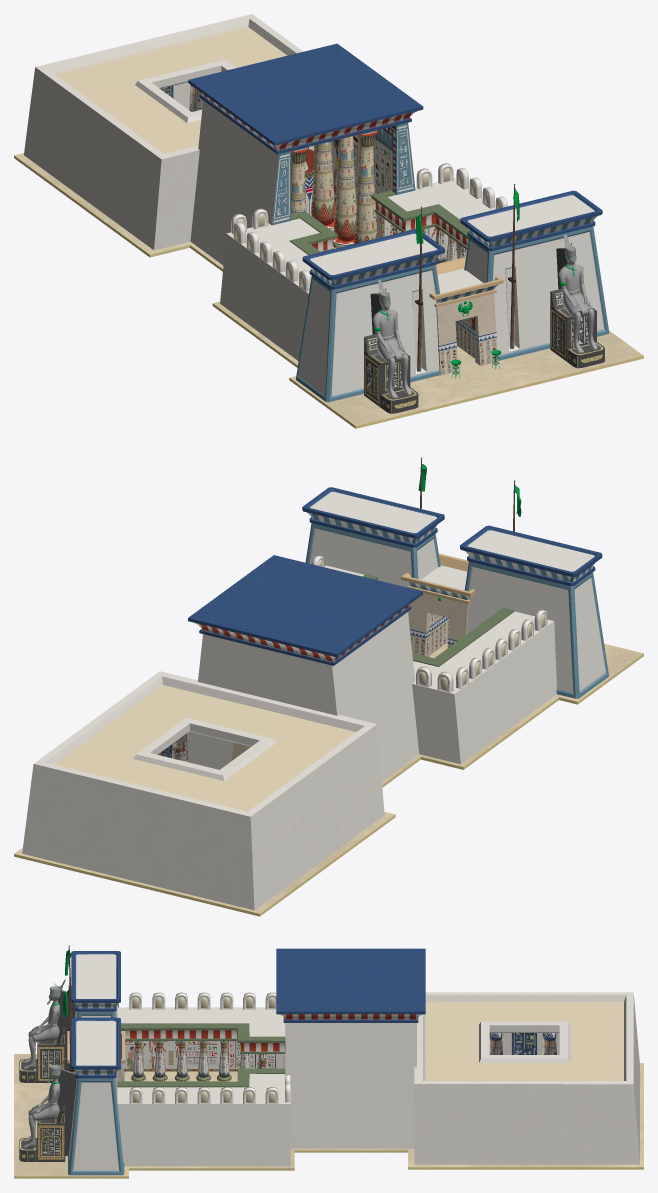
File: 3dModelFirst-transformed.glb
3 views of the same model, one above another, from view 1: azimuth 30°, elevation 25°; view 2: azimuth 150°, elevation 25°; view 3: azimuth 270°, elevation 25° (orthographic). The views are drawn at different scales.
Parts seen in each view (by area): view 1: pilono_estatua_034, Box022, sala_hipostila_detalle001, sala_hipetra_izq, escaleras, sala_hipetra_izq_columna_00, pilono_estatua_044, pilono_estatua_00, sala_santuario_detalle_03; view 2: Box022, sala_hipostila_detalle001, pilono_estatua_034, sala_hipetra_izq, escaleras; view 3: Box022, sala_hipostila_detalle001, sala_hipetra_izq, pilono_estatua_034, escaleras, sala_hipetra_izq_columna_00, pilono_estatua_044, pilono_estatua_00, pilono_estatua_048, pilono_estatua_06.
Boxes of the visible parts, x1=… form: pilono_estatua_034: x1=296, y1=183, x2=609, y2=402; Box022: x1=24, y1=14, x2=303, y2=250; sala_hipostila_detalle001: x1=188, y1=43, x2=423, y2=265; sala_hipetra_izq: x1=220, y1=163, x2=507, y2=360; escaleras: x1=14, y1=153, x2=643, y2=428; sala_hipetra_izq_columna_00: x1=189, y1=85, x2=467, y2=263; pilono_estatua_044: x1=558, y1=256, x2=597, y2=352; pilono_estatua_00: x1=373, y1=301, x2=411, y2=398; sala_santuario_detalle_03: x1=387, y1=188, x2=574, y2=378; Box022: x1=22, y1=671, x2=384, y2=910; sala_hipostila_detalle001: x1=188, y1=555, x2=422, y2=780; pilono_estatua_034: x1=302, y1=457, x2=608, y2=698; sala_hipetra_izq: x1=312, y1=555, x2=556, y2=764; escaleras: x1=14, y1=643, x2=643, y2=916; Box022: x1=414, y1=992, x2=639, y2=1164; sala_hipostila_detalle001: x1=276, y1=948, x2=425, y2=1148; sala_hipetra_izq: x1=117, y1=992, x2=290, y2=1166; pilono_estatua_034: x1=57, y1=945, x2=125, y2=1175; escaleras: x1=14, y1=1027, x2=643, y2=1178; sala_hipetra_izq_columna_00: x1=131, y1=1033, x2=556, y2=1081; pilono_estatua_044: x1=22, y1=1072, x2=59, y2=1148; pilono_estatua_00: x1=22, y1=993, x2=59, y2=1069; pilono_estatua_048: x1=31, y1=1101, x2=59, y2=1120; pilono_estatua_06: x1=31, y1=1022, x2=59, y2=1042.
Bounding box in the file's own units: 38.02 × 22.12 × 82.9.
Materials: 9 (6 with a texture image).
